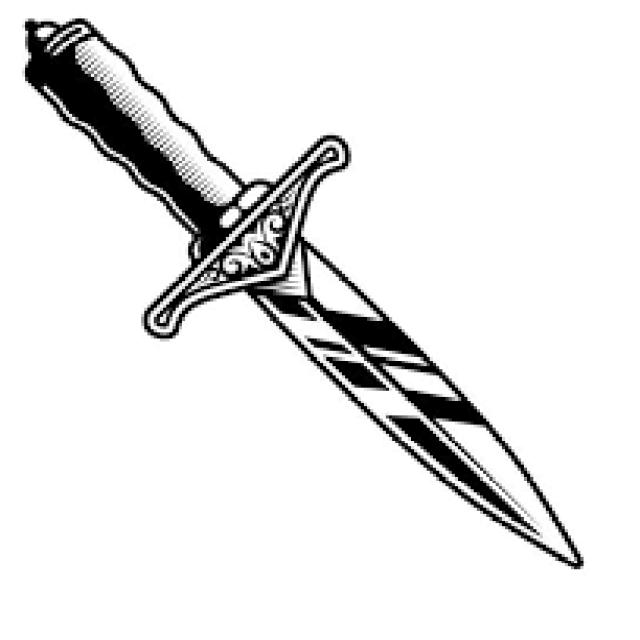Gun: (14, 8, 600, 572)
